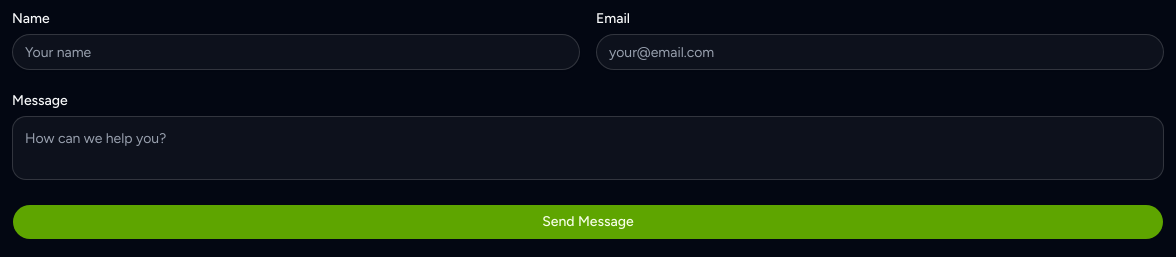
Scenario: ContactForm › disables form during submission
Type "John Doe" into the field labelled "Name". click: (296, 52)
box: [12,34,580,70]
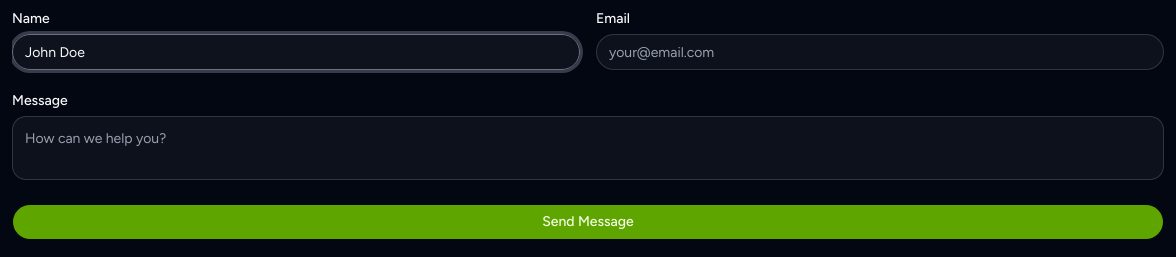
Type "john@example.com" into the field labelled "Email". click: (880, 52)
box: [596,34,1164,70]
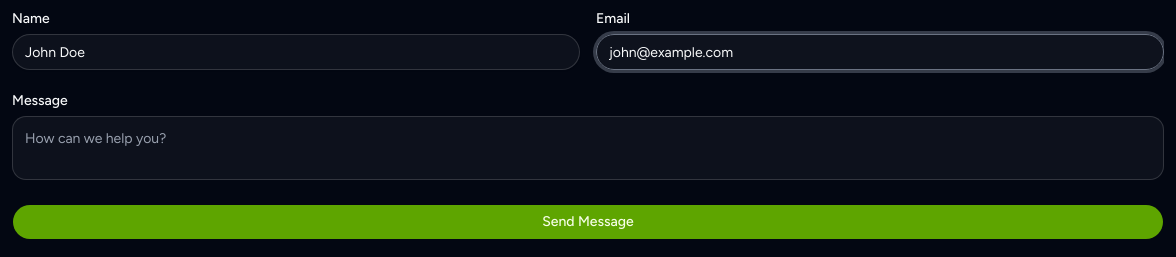
Type "This is a valid message with enough content." into the text box labelled "Message". click: (588, 148)
box: [12,116,1164,180]
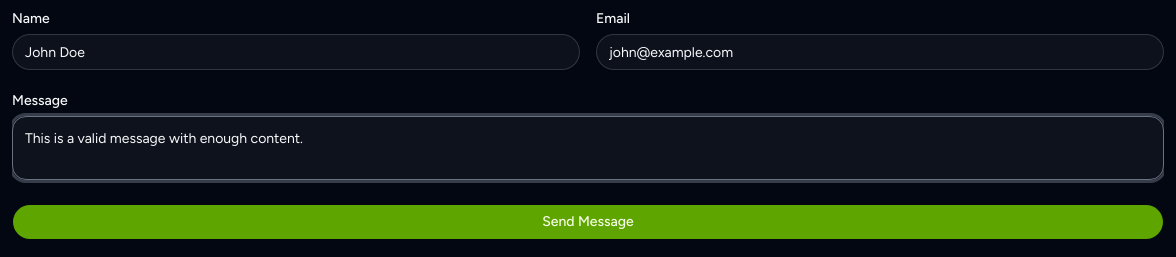
Click the button "Send Message". click: (588, 222)
box: [12,204,1164,240]
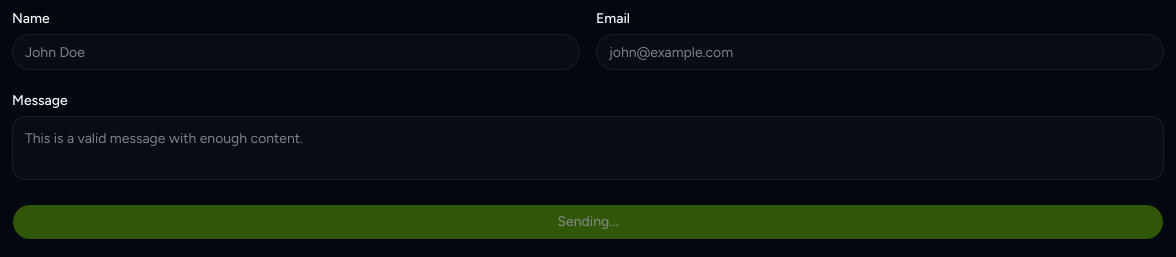
Expected: the button "Sending..." is shown, [12,204,1164,240]
Expected: the field labelled "Name" is disabled, [12,34,580,70]
Expected: the field labelled "Email" is disabled, [596,34,1164,70]
